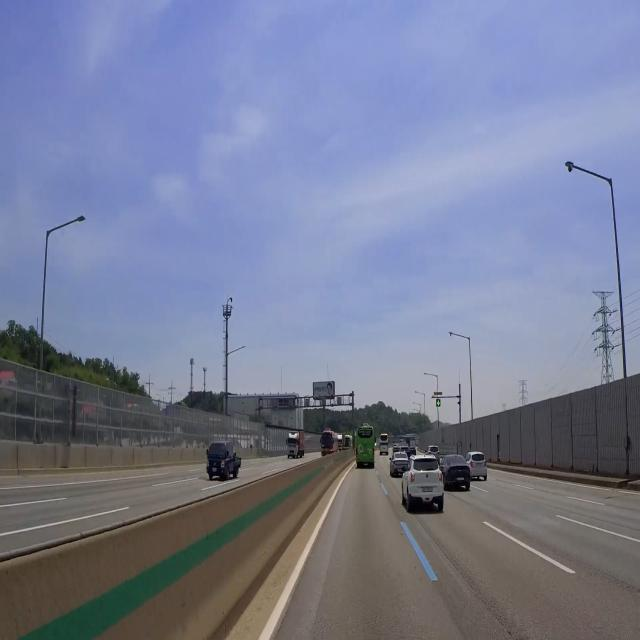car: (454, 472, 469, 486), (419, 486, 436, 498), (360, 449, 372, 463), (210, 464, 220, 477), (474, 462, 485, 472)
